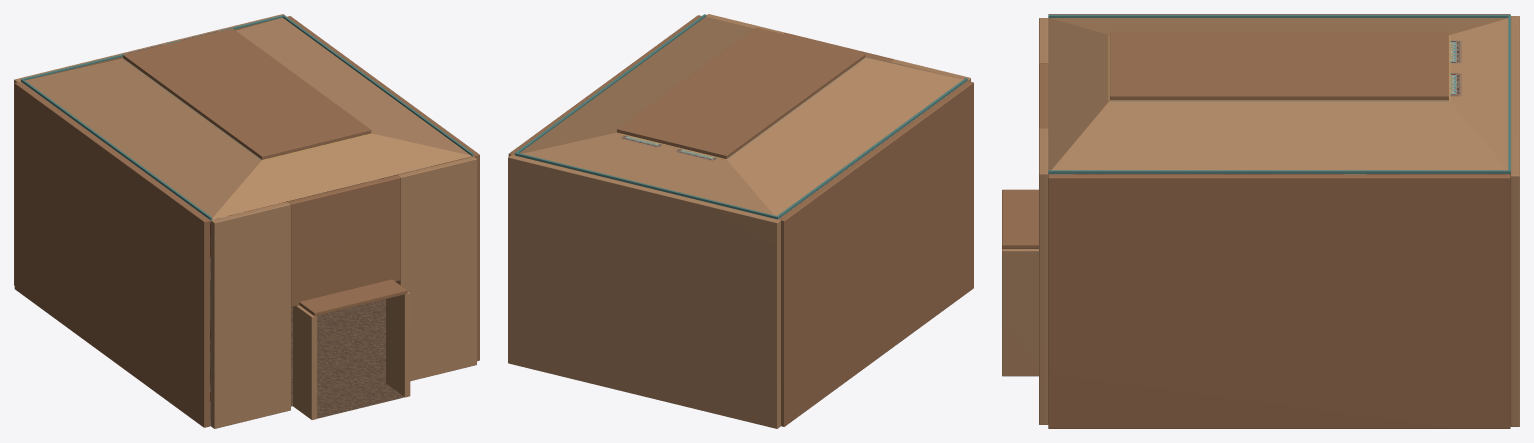
The model's file is interior.glb.
3 renders of one model, left to right at view 1: azimuth 30°, elevation 25°; view 2: azimuth 150°, elevation 25°; view 3: azimuth 270°, elevation 25°, orthographic. The views are drawn at different scales.
Parts seen in each view (by area): view 1: cave-interior--plaster, cave-interior--plaster-warm, cave-floor--worn-cave-floor, interior-painted-surfaces--teal, interior-painted-surfaces--deer-art; view 2: cave-interior--plaster-warm, cave-interior--plaster, interior-painted-surfaces--teal; view 3: cave-interior--plaster, cave-interior--plaster-warm, interior-painted-surfaces--teal, cave-interior--lotus-art.
Part boxes in pixels (<box>): cave-interior--plaster: <box>14,16,479,427</box>; cave-interior--plaster-warm: <box>14,14,476,428</box>; cave-floor--worn-cave-floor: <box>291,299,404,418</box>; interior-painted-surfaces--teal: <box>21,15,473,219</box>; interior-painted-surfaces--deer-art: <box>23,83,472,425</box>; cave-interior--plaster-warm: <box>508,14,970,428</box>; cave-interior--plaster: <box>508,15,973,426</box>; interior-painted-surfaces--teal: <box>515,14,967,219</box>; cave-interior--plaster: <box>1002,14,1510,428</box>; cave-interior--plaster-warm: <box>1002,16,1519,426</box>; interior-painted-surfaces--teal: <box>1048,14,1510,173</box>; cave-interior--lotus-art: <box>1450,40,1461,96</box>.
Size of the model in its own units: 25.2 by 20.3 by 33.6.
7 materials, 3 textured.
